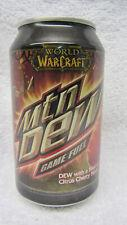metal: (10, 17, 104, 207)
